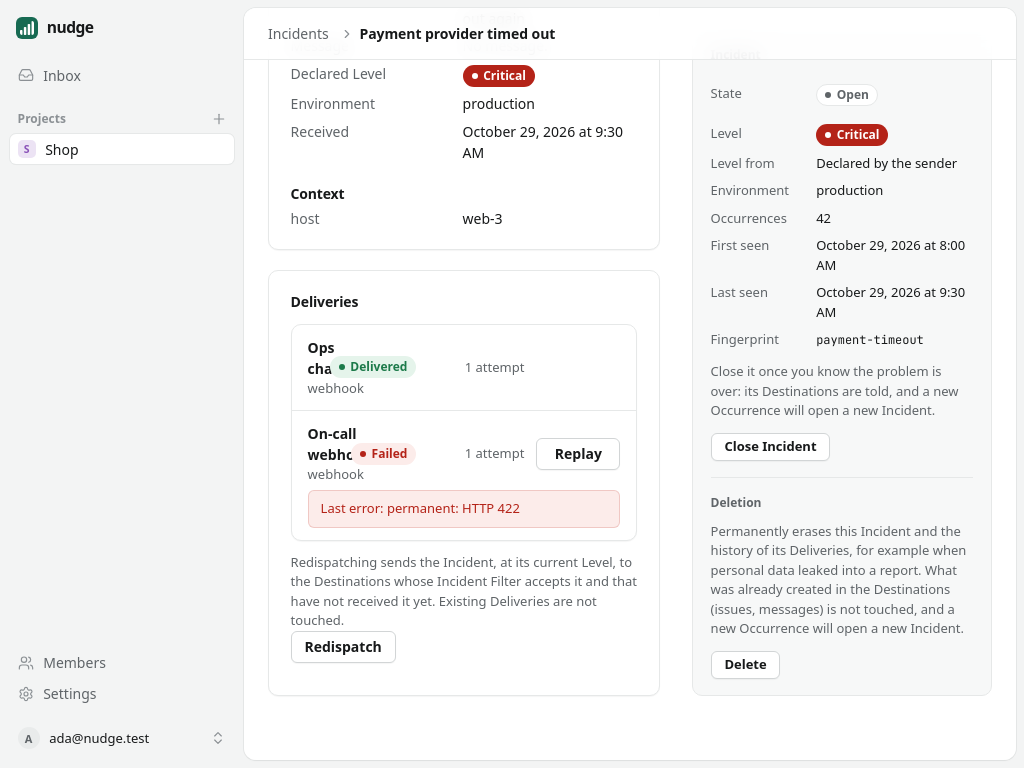
Test: An Incident’s detail › shows its Deliveries, replays a failed one but not a delivered one, and redispatches the Open Incident
(page scrolled)
Check: the text "On-call webhook" is shown, box [308,423,372,465]
Check: the text "Last error: permanent: HTTP 422" is shown, box [308,490,620,528]
Click the button with aria-label "Replay the Delivery to ". click: click(578, 454)
box: [536,438,620,470]
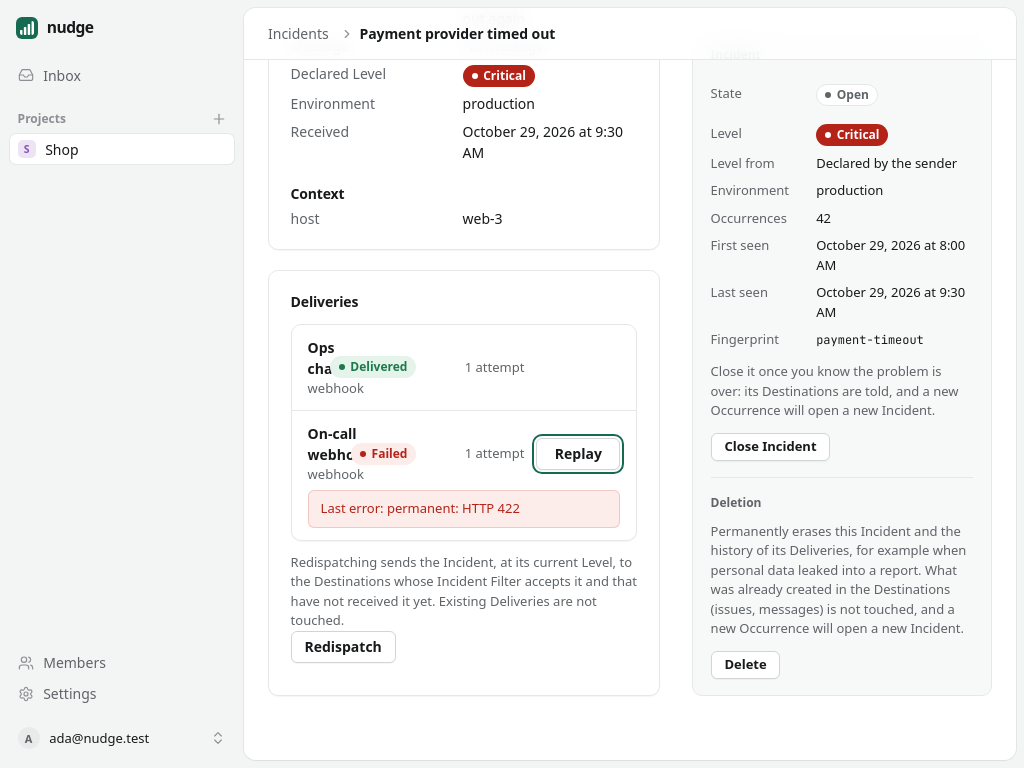
Click the button "Redispatch". click: click(343, 647)
box: [291,631,396,663]
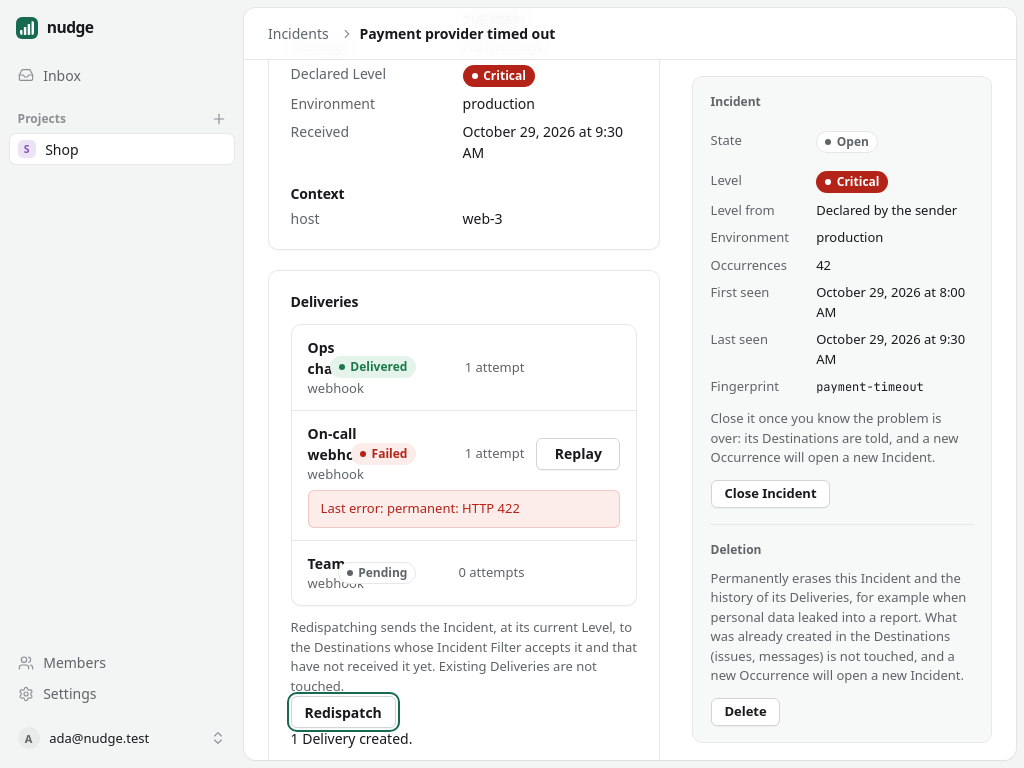
Check: the text "1 Delivery created." is shown, box [291,729,412,748]
Check: the text "Team" is shown, box [308,554,345,573]
